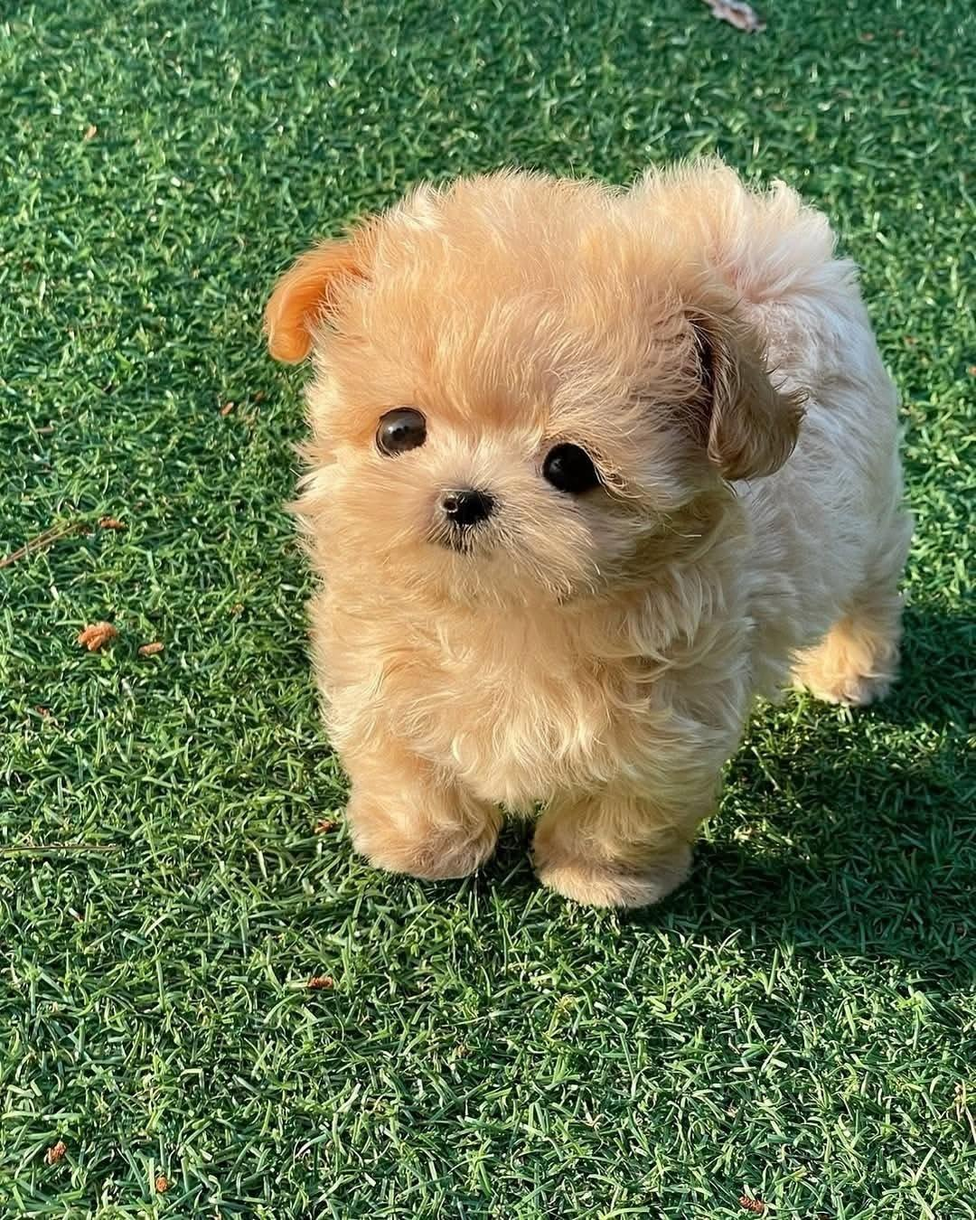puppy-dog: (260, 154, 915, 913)
